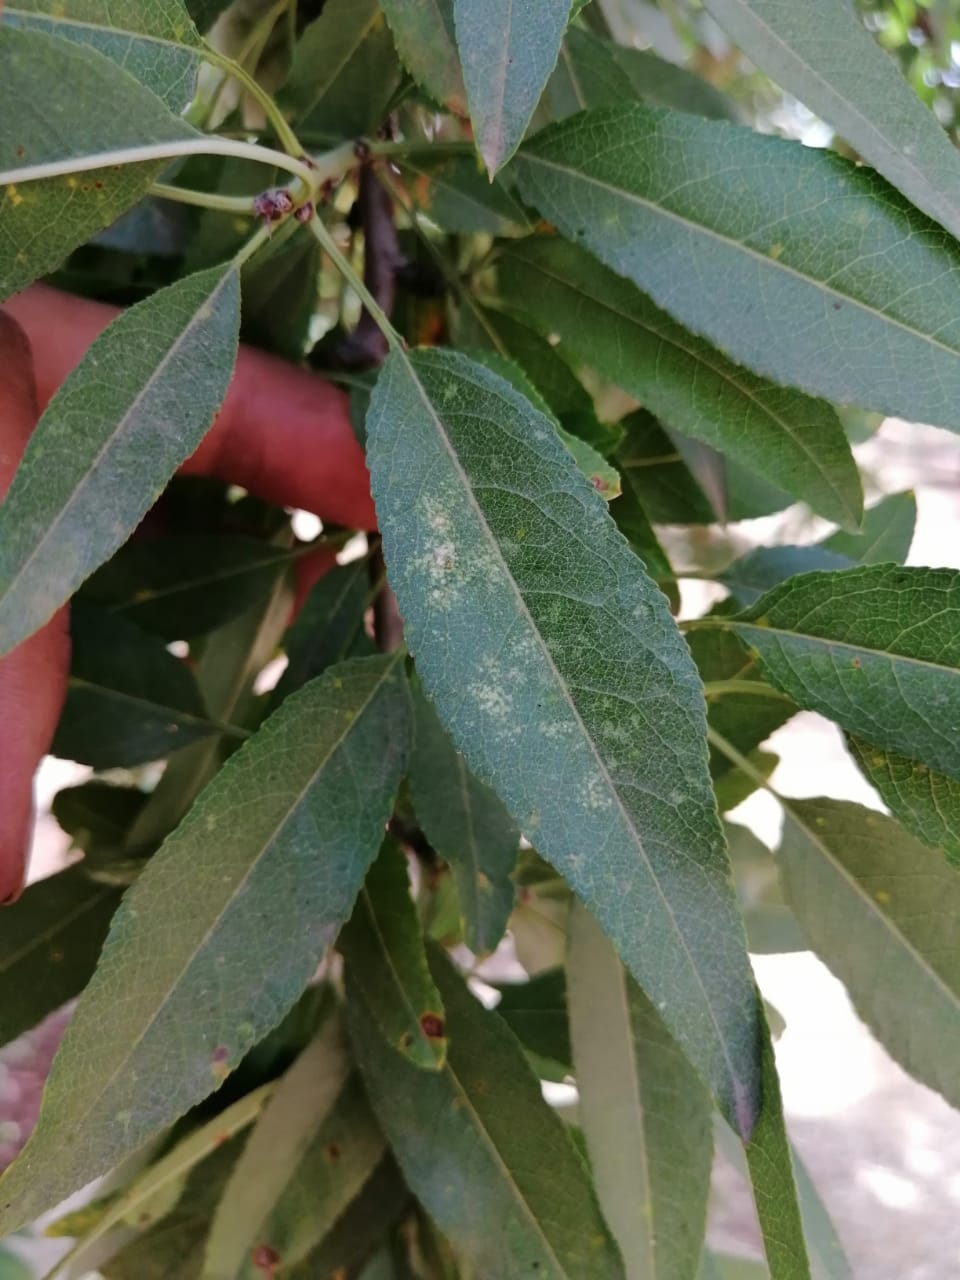faux tigre: (361, 333, 763, 1149), (1, 649, 413, 1233)
